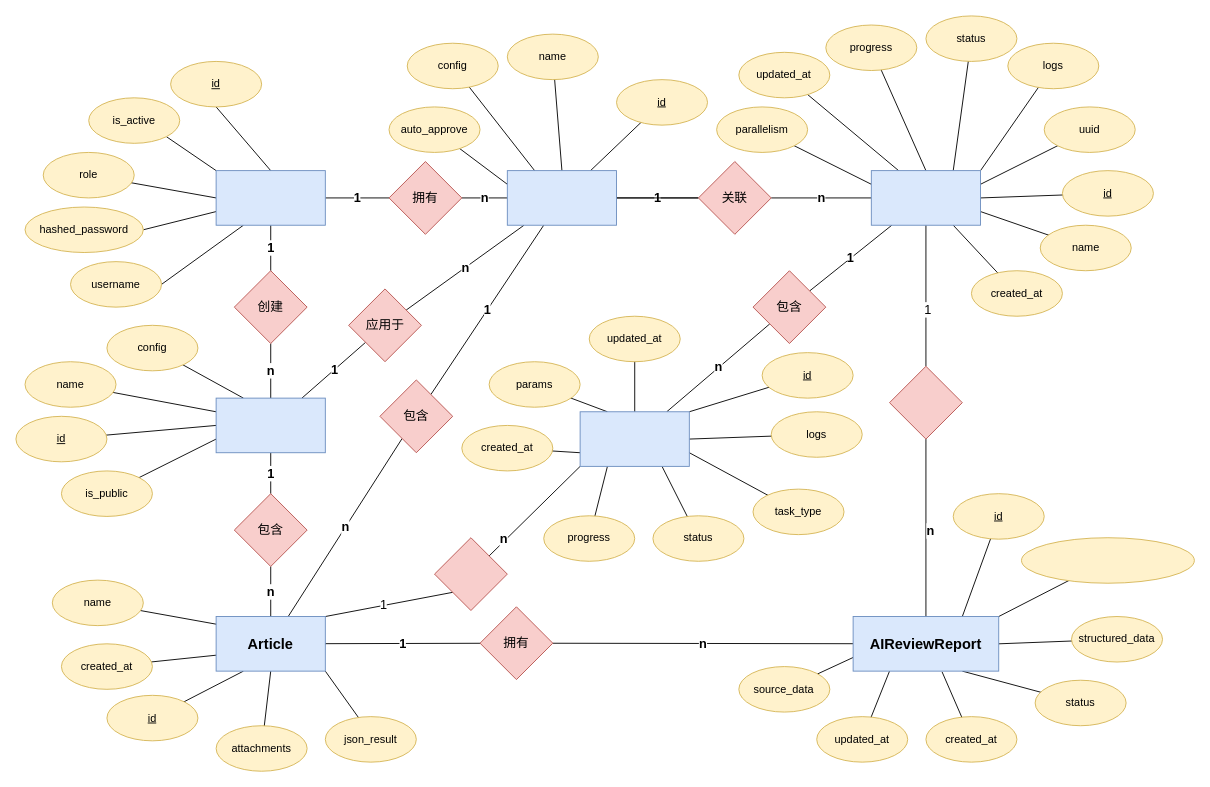
This 1210x787 diagram has some shape labels left out. The shapes that lost their labels are listed below. From the top down, each one's box as (x1, y1, x2, y2) in pixels, then its label:
(215, 170, 325, 225): User
(506, 170, 617, 225): Project
(870, 170, 981, 225): Job
(889, 365, 962, 439): 生成
(215, 397, 325, 453): ArticleType
(579, 411, 689, 466): JobTask
(434, 537, 507, 611): 被处理
(1021, 537, 1194, 583): processed_attachment_text
